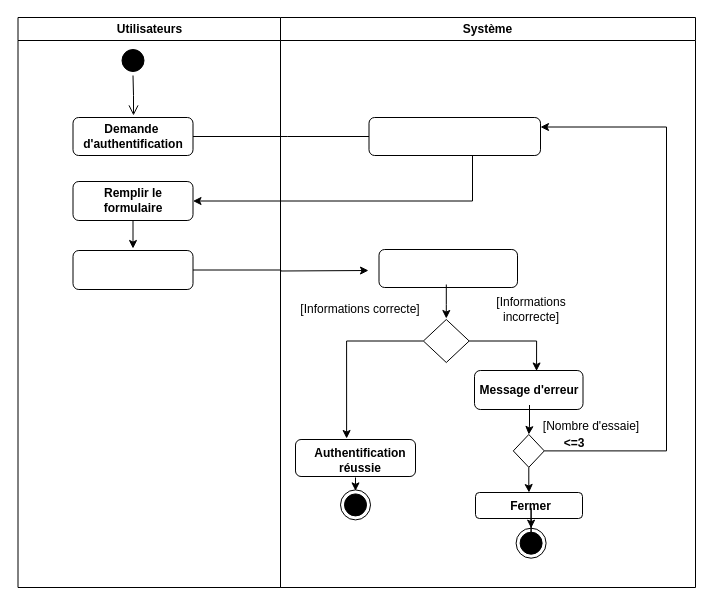
This 713x605 diagram has some shape labels left out. The shapes that lost their labels are listed below. From the top down, each one's centre as x and y in pixels, then its label:
point 454,136: Afficher formulaire d'authentification
point 132,270: Soumettre le formulaire
point 448,268: Vérifier informations saisir
